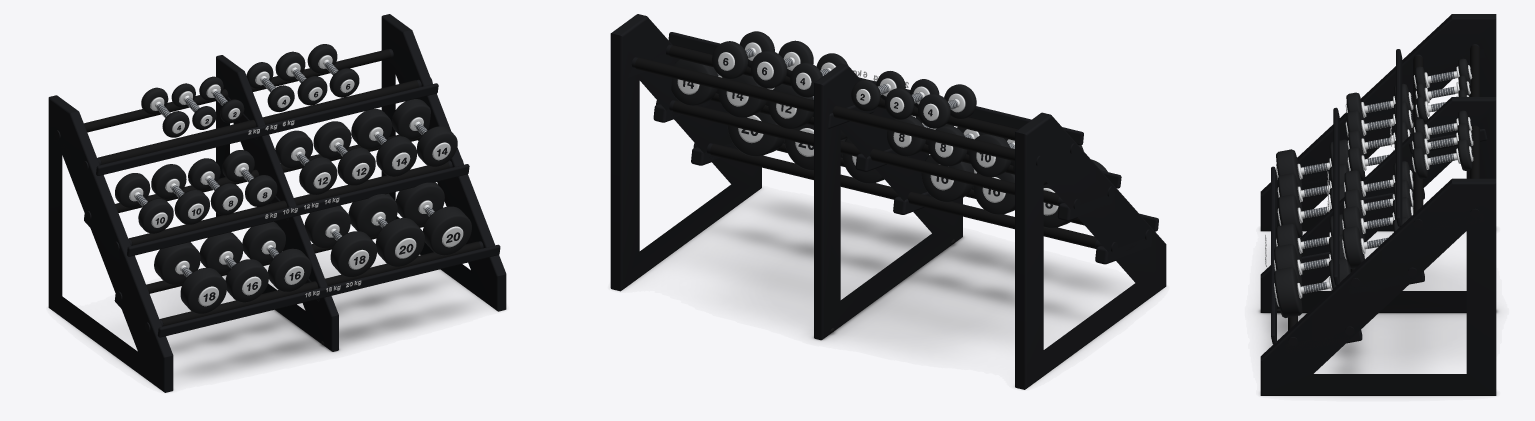
The model's file is suporte-halteres.glb.
3 renders of one model, left to right at view 1: azimuth 30°, elevation 25°; view 2: azimuth 150°, elevation 25°; view 3: azimuth 270°, elevation 25°, orthographic. The views are drawn at different scales.
Visible parts, largest first — view 1: Painel, Sombra_Contacto, Painel_2, Painel_1, Batente_2, Batente, Batente_1, Capa_Borracha_5, Capa_Borracha_3, Capa_Borracha_1, Capa_Borracha_4, Cabeca_8 (+34 smaller); view 2: Sombra_Contacto, Painel, Painel_2, Painel_1, Capa_Borracha_4, Capa_Borracha_2, Capa_Borracha, Capa_Borracha_5, Batente_2, Cabeca_11, Cabeca_27, Cabeca_1 (+16 smaller); view 3: Painel_2, Painel, Painel_1, Sombra_Contacto, Batente_1, Batente_2, Cabeca_10, Batente, Capa_Borracha_4, Cabeca_26, Capa_Borracha_5, Cabeca (+18 smaller).
Boxes of the visible parts, x1,y1,x2,y2 form: Painel: (48, 95, 173, 392); Sombra_Contacto: (65, 269, 494, 384); Painel_2: (381, 14, 506, 311); Painel_1: (216, 55, 338, 351); Batente_2: (96, 83, 438, 175); Batente: (157, 244, 500, 337); Batente_1: (127, 164, 469, 256); Capa_Borracha_5: (98, 80, 418, 164); Capa_Borracha_3: (129, 162, 449, 245); Capa_Borracha_1: (160, 241, 480, 326); Capa_Borracha_4: (84, 49, 390, 132); Cabeca_8: (375, 218, 424, 266); Sombra_Contacto: (625, 190, 1153, 378); Painel: (1015, 112, 1166, 389); Painel_2: (610, 14, 761, 291); Painel_1: (814, 63, 962, 340); Capa_Borracha_4: (635, 57, 1014, 161); Capa_Borracha_2: (672, 100, 1059, 205); Capa_Borracha: (710, 143, 1096, 248); Capa_Borracha_5: (669, 45, 1017, 140); Batente_2: (668, 32, 1083, 145); Cabeca_11: (727, 112, 784, 156); Cabeca_27: (671, 59, 717, 105); Cabeca_1: (921, 154, 974, 202); Painel_2: (1260, 178, 1496, 395); Painel: (1260, 14, 1496, 231); Painel_1: (1260, 97, 1496, 312); Sombra_Contacto: (1258, 231, 1498, 396); Batente_1: (1333, 107, 1339, 285); Batente_2: (1396, 49, 1402, 226); Cabeca_10: (1274, 267, 1302, 317); Batente: (1271, 166, 1276, 344); Capa_Borracha_4: (1470, 45, 1479, 178); Cabeca_26: (1342, 226, 1364, 269); Capa_Borracha_5: (1413, 55, 1423, 213); Cabeca: (1278, 194, 1302, 237).
Bounding box in the file's own units: 1.95 × 1.02 × 1.22.
Materials: 9 (1 with a texture image).
